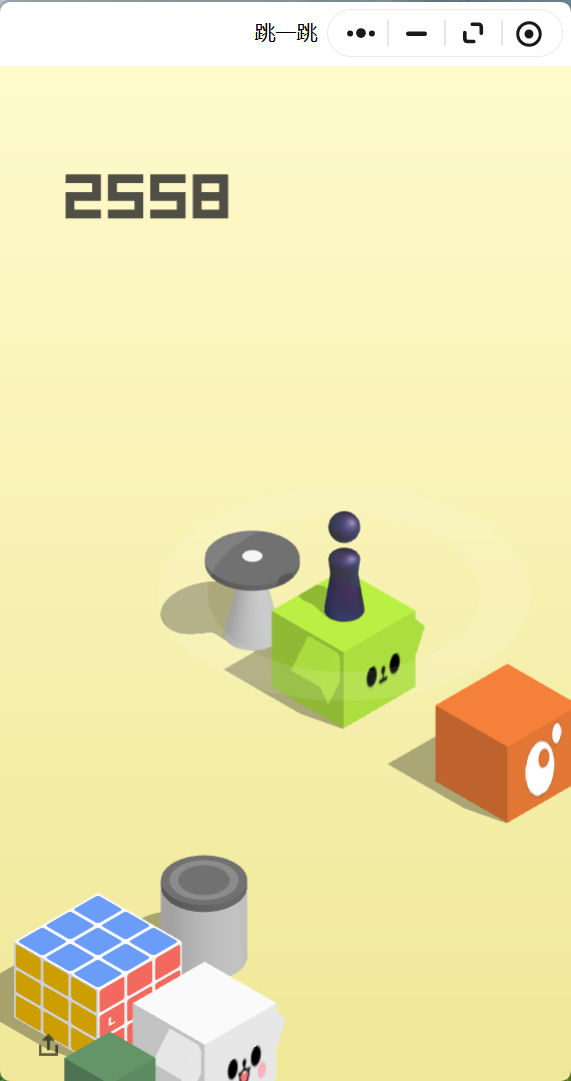piece: (328, 511, 360, 618)
target: (206, 530, 300, 586)
